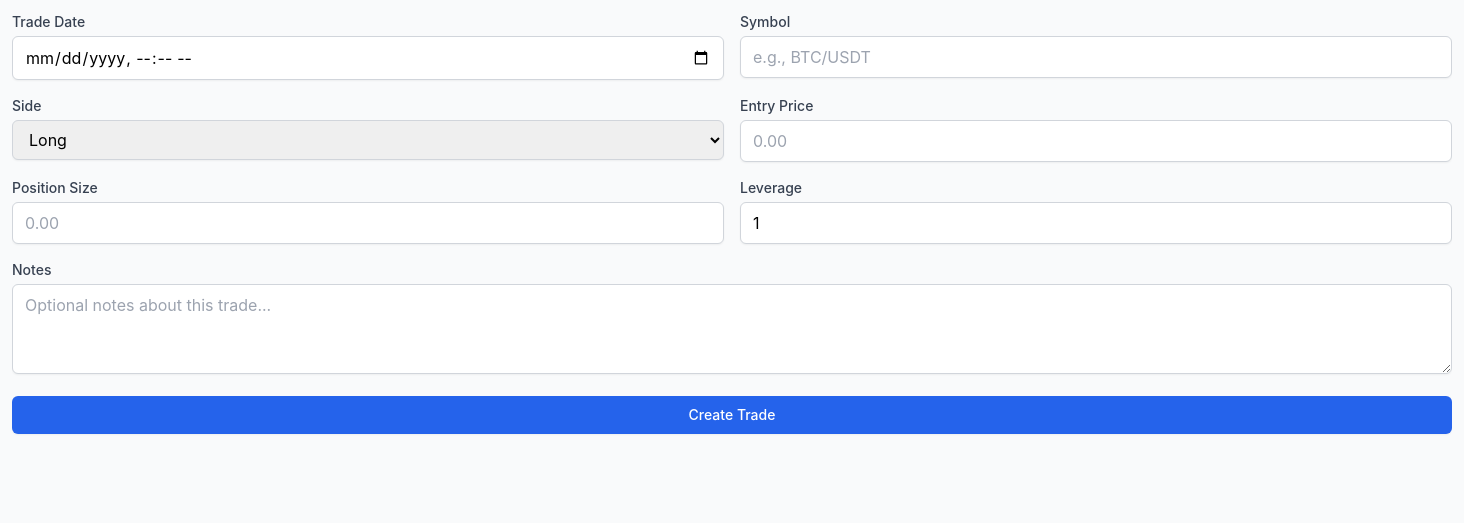
Scenario: TradeForm › should show validation error for invalid entry price
Type "-100" into the number field labelled "Entry Price".
click(1096, 141); type("-100")  # box [740,120,1452,162]
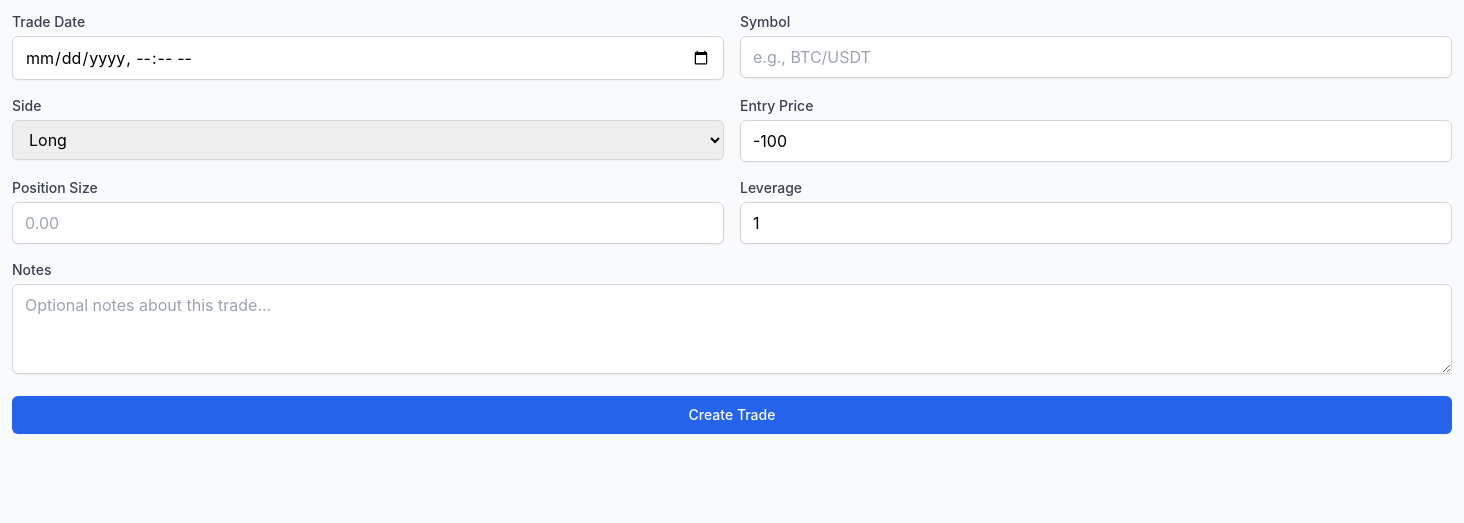
Click the button "Create Trade".
click(732, 415)  # box [12,396,1452,434]
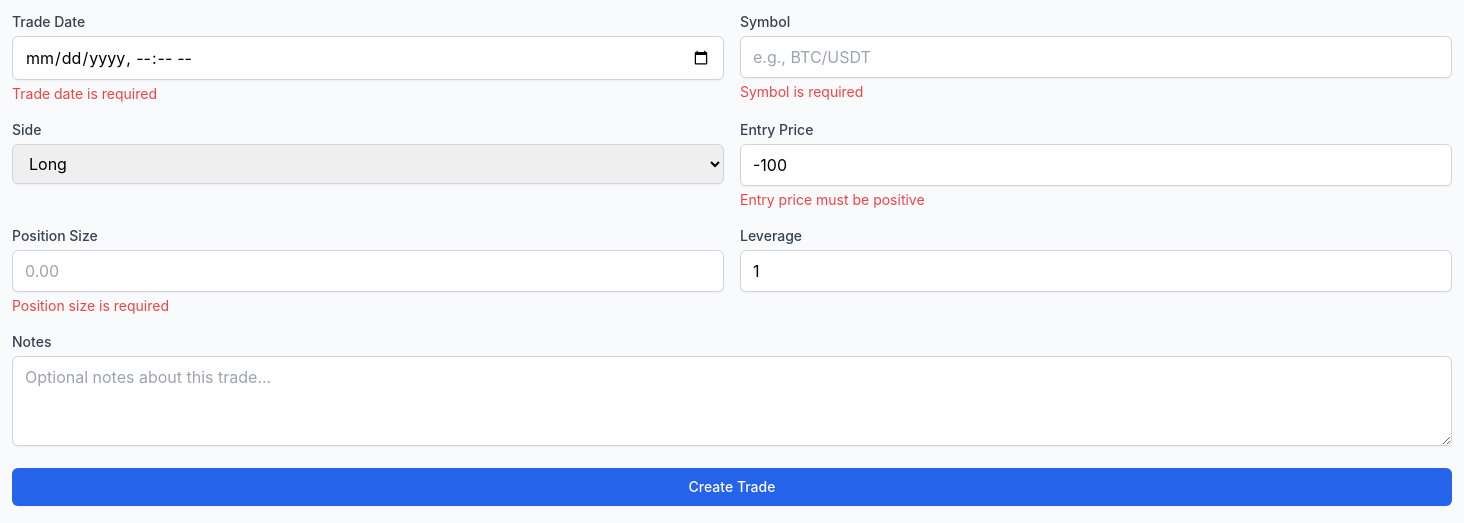
Check: the text "Entry price must be positive" is shown, box [740,191,925,208]
